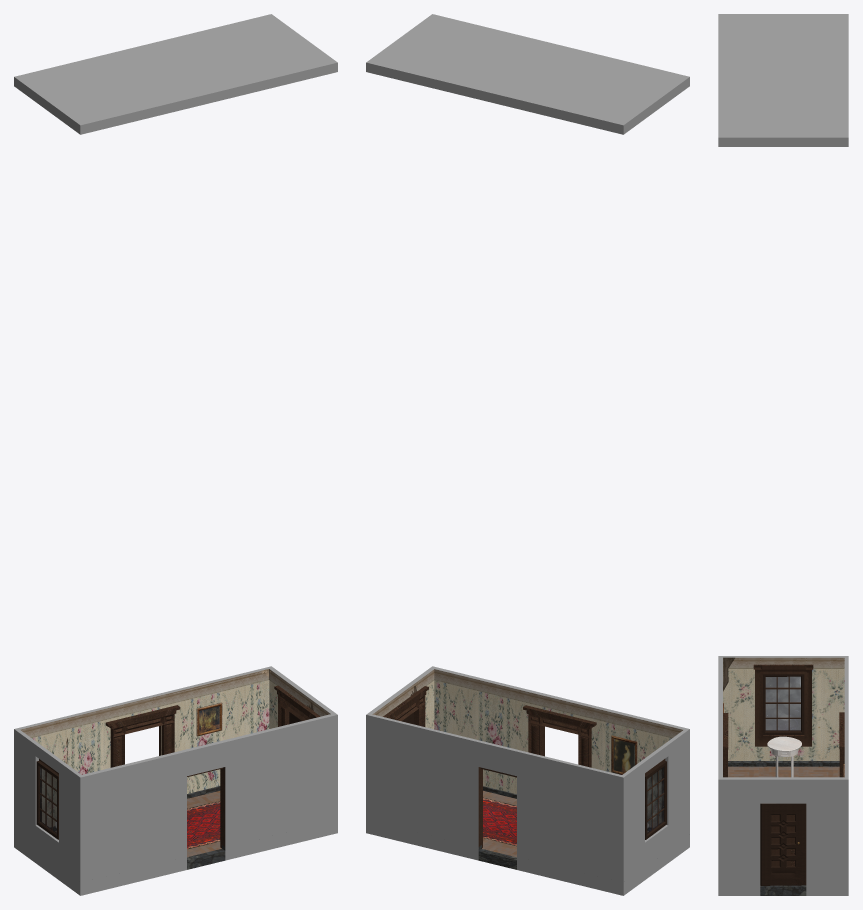
The model's file is First_floor_short_hallway.fbx.
The picture shows the model from 3 angles, left to right: view 1: azimuth 30°, elevation 25°; view 2: azimuth 150°, elevation 25°; view 3: azimuth 270°, elevation 25°; orthographic projection.
Visible parts, largest first — view 1: walls, ceiling, floor, door_frame, pPlane3, pPlane2, third_door_frame, deers_paintin:pCube1, pCube26; view 2: walls, ceiling, floor, second_door_frame, pPlane3, woman_with_skeleton_painting:pCube1, pPlane2, third_door_frame, pCube26; view 3: walls, ceiling, Door:pCube39, floor, pCube32, pPlane2, pCube26, desk, door_frame, second_door_frame.
Boxes of the visible parts, <box> form: walls: <box>14,666,337,882</box>; ceiling: <box>14,14,337,134</box>; floor: <box>14,786,337,895</box>; door_frame: <box>105,705,180,767</box>; pPlane3: <box>187,801,220,849</box>; pPlane2: <box>40,767,56,833</box>; third_door_frame: <box>274,685,320,726</box>; deers_paintin:pCube1: <box>196,702,222,736</box>; pCube26: <box>36,760,58,839</box>; walls: <box>366,666,689,882</box>; ceiling: <box>366,14,689,134</box>; floor: <box>366,786,689,895</box>; second_door_frame: <box>523,705,596,767</box>; pPlane3: <box>483,797,516,846</box>; woman_with_skeleton_painting:pCube1: <box>611,735,637,774</box>; pPlane2: <box>647,767,663,833</box>; third_door_frame: <box>383,686,428,726</box>; pCube26: <box>645,760,666,839</box>; walls: <box>718,656,848,882</box>; ceiling: <box>718,14,848,146</box>; Door:pCube39: <box>760,803,806,885</box>; floor: <box>718,761,848,895</box>; pCube32: <box>753,664,813,746</box>; pPlane2: <box>765,676,800,730</box>; pCube26: <box>763,674,804,735</box>; desk: <box>767,736,801,751</box>; door_frame: <box>839,712,844,777</box>; second_door_frame: <box>723,713,728,777</box>.
Bounding box in the file's own units: 61.12 × 175 × 27.28.
